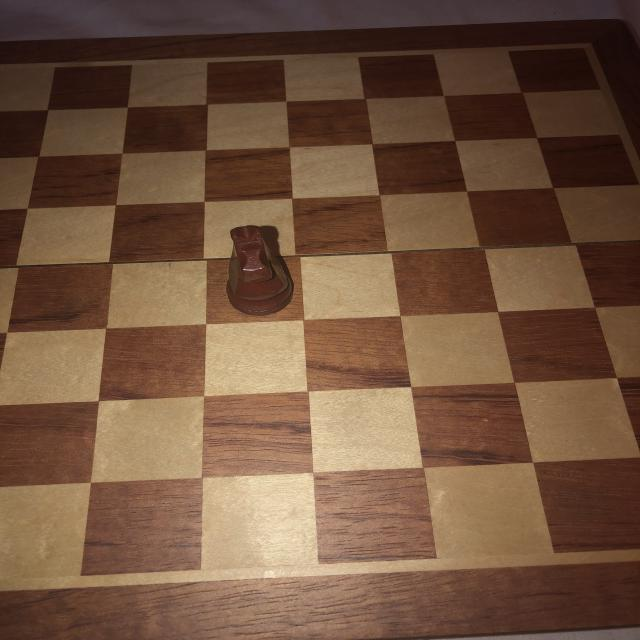black_knight: (224, 224, 296, 317)
